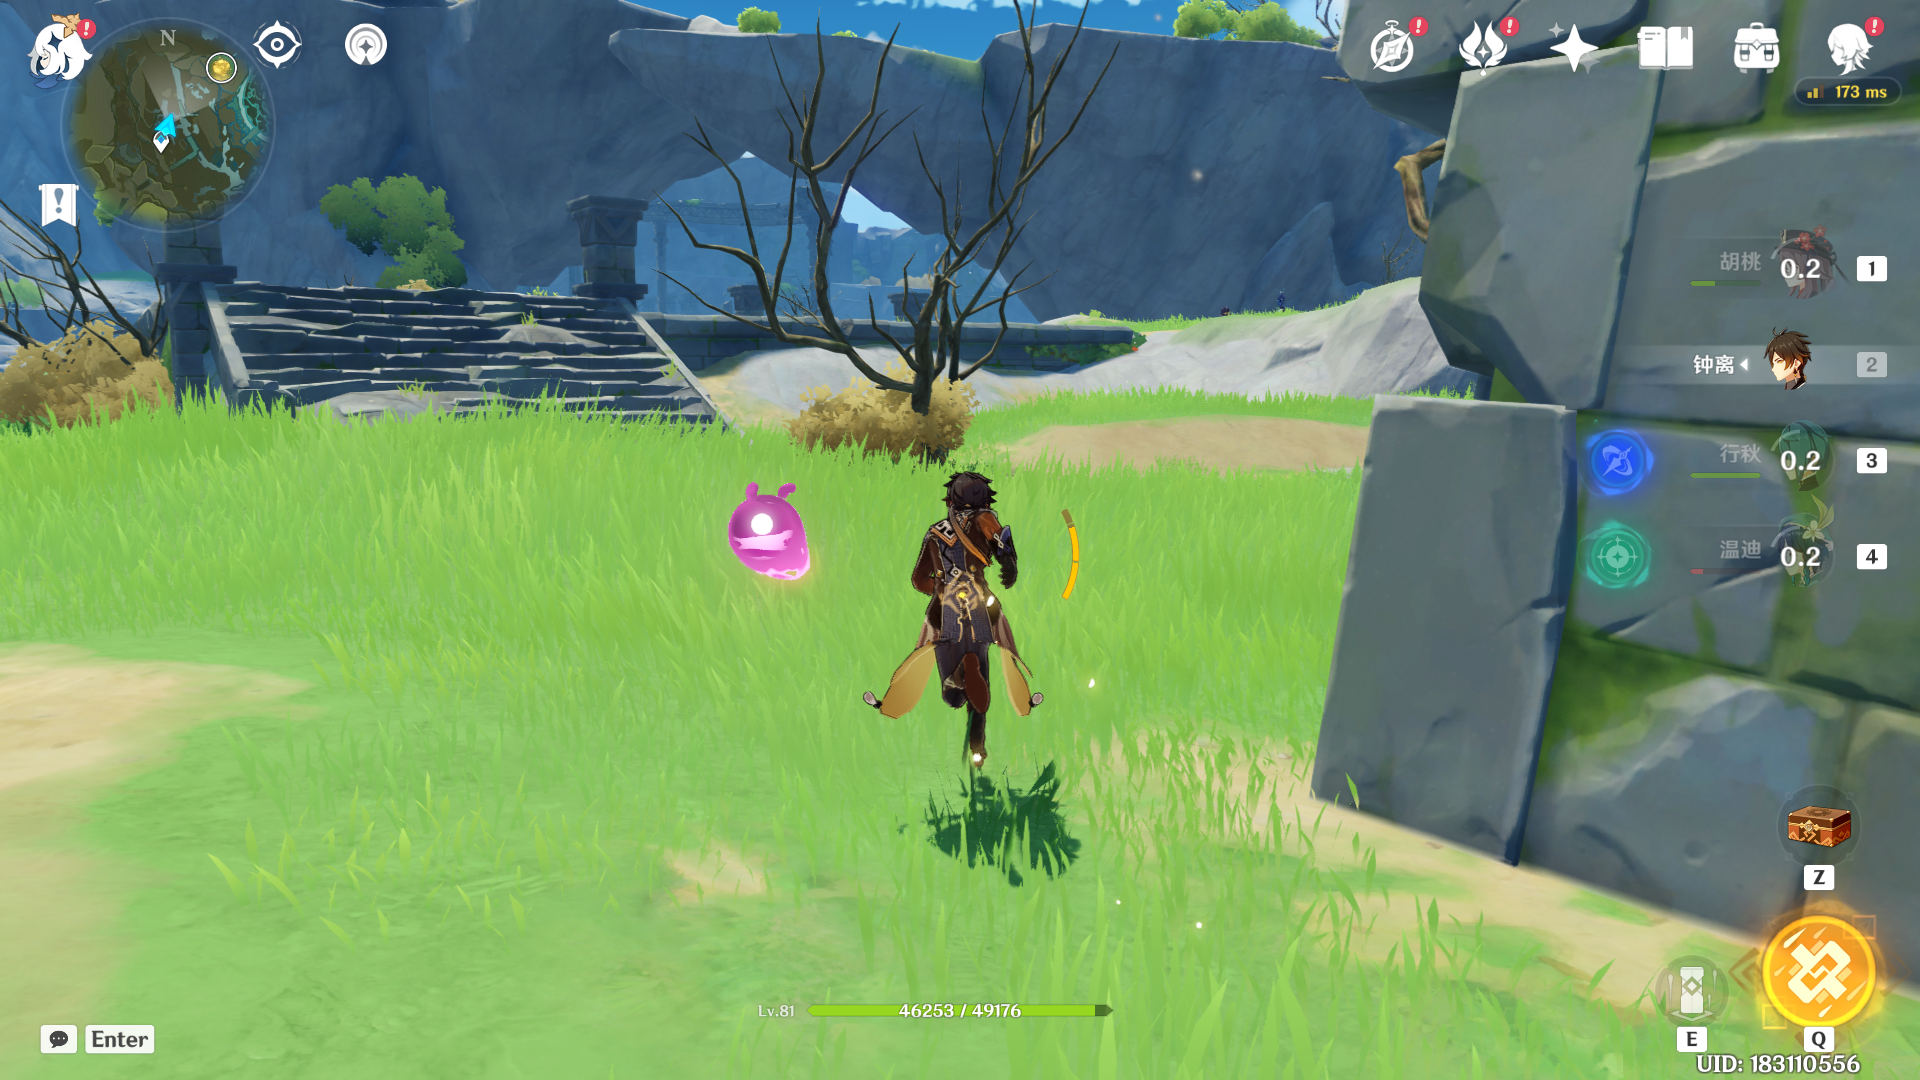character: (851, 446, 1134, 808)
